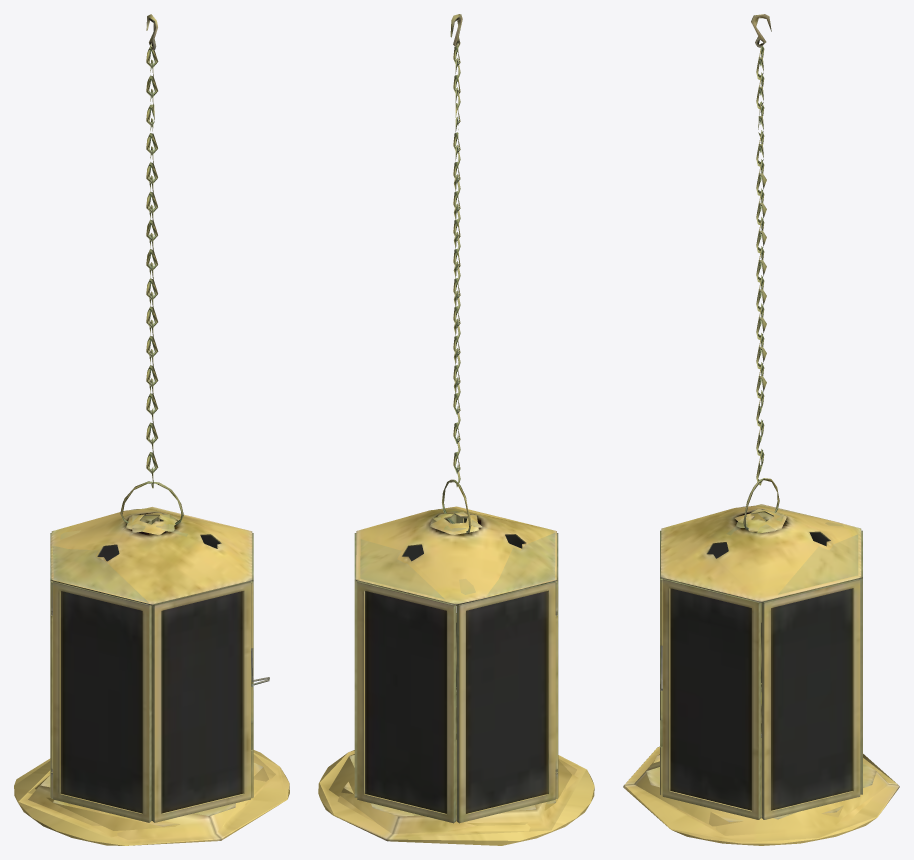
File: ph-brass-diya-lantern.lod1.glb
The picture shows the model from 3 angles, left to right: view 1: azimuth 30°, elevation 25°; view 2: azimuth 150°, elevation 25°; view 3: azimuth 270°, elevation 25°; orthographic projection.
Parts seen in each view (by area): view 1: brass_diya_lantern, brass_diya_lantern_chain; view 2: brass_diya_lantern, brass_diya_lantern_chain; view 3: brass_diya_lantern, brass_diya_lantern_chain.
Boxes of the visible parts, box(x1,y1,x2,y2) form: brass_diya_lantern: box(14, 507, 289, 845); brass_diya_lantern_chain: box(146, 14, 158, 488); brass_diya_lantern: box(318, 506, 594, 845); brass_diya_lantern_chain: box(450, 14, 462, 486); brass_diya_lantern: box(623, 504, 899, 845); brass_diya_lantern_chain: box(751, 14, 771, 485).
Size of the model in its own units: 0.123 by 0.3806 by 0.123.
Materials: 3 (3 with a texture image).
